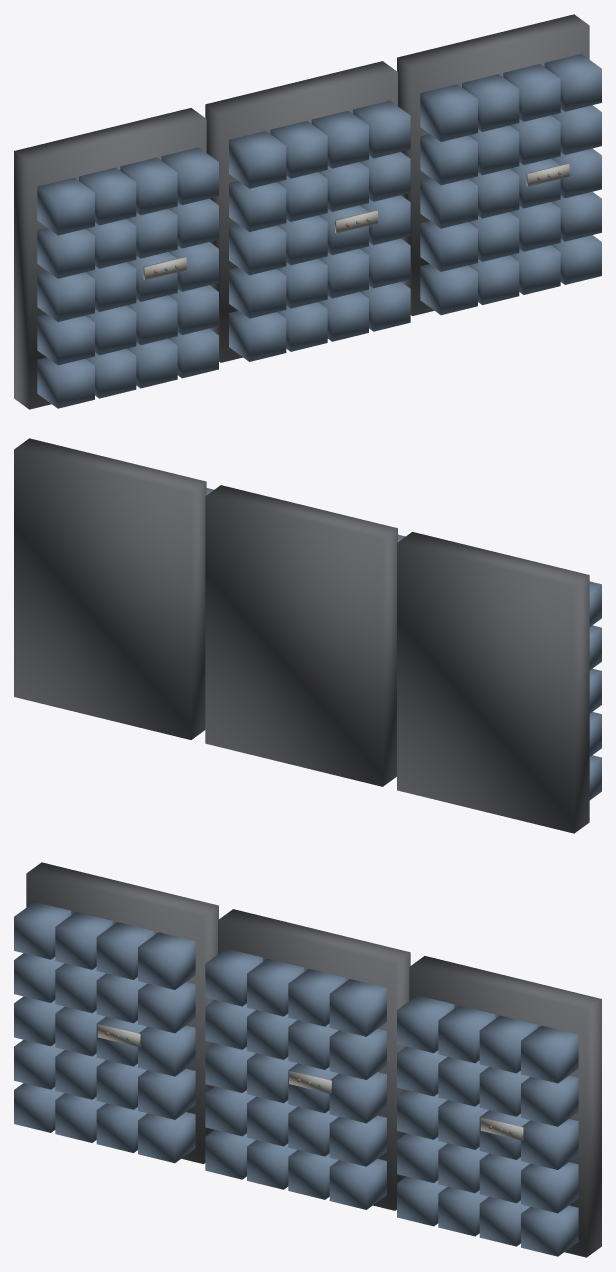
File: parts_bin_rack__cluster.glb
3 renders of one model, top to bottom at view 1: azimuth 30°, elevation 25°; view 2: azimuth 150°, elevation 25°; view 3: azimuth 330°, elevation 25°, orthographic.
Visible parts, largest first — view 1: world; view 2: world; view 3: world.
Boxes of the visible parts, box(x1,y1,x2,y2) form: world: box(14, 14, 601, 409); world: box(14, 438, 601, 833); world: box(14, 862, 601, 1257).
Bounding box in the file's own units: 3.79 × 1.6 × 0.451.
